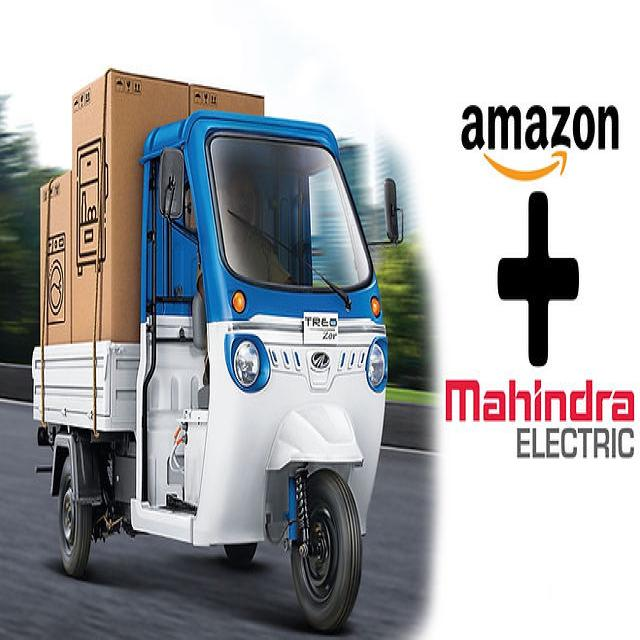autorickshaw: (32, 111, 388, 630)
